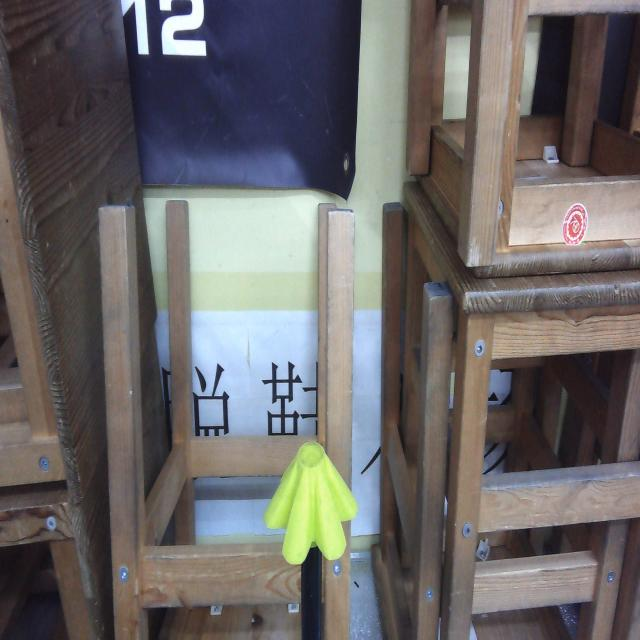Yellow-Stake-Head: (263, 440, 359, 566)
